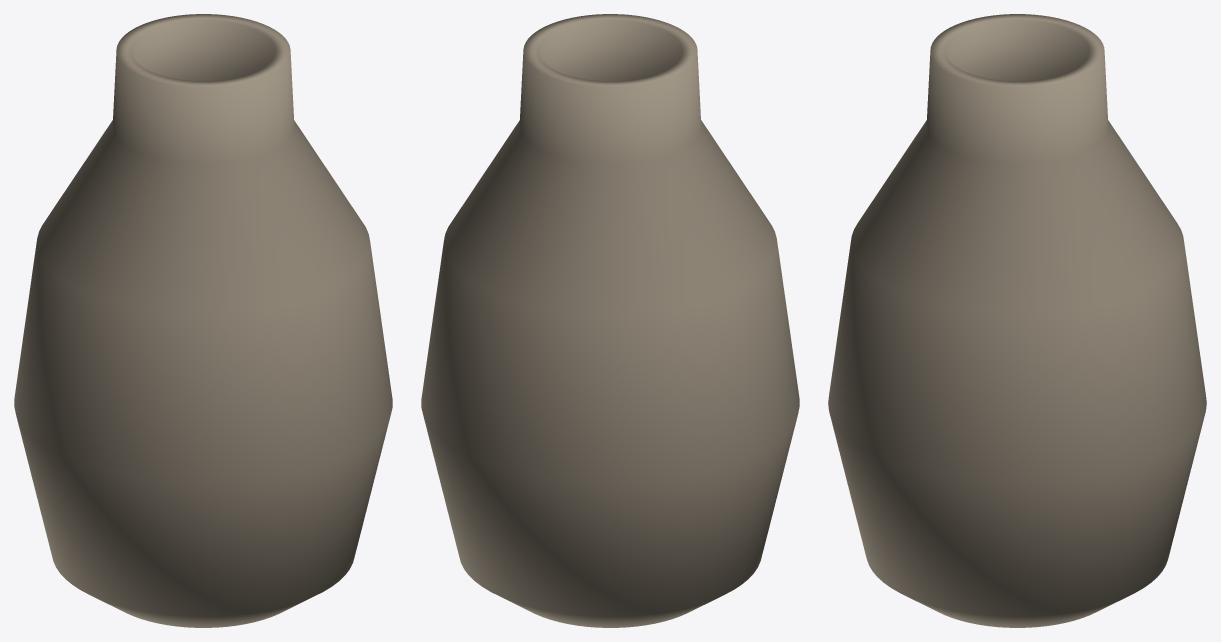
File: traditional.vase.gltf
The picture shows the model from 3 angles, left to right: view 1: azimuth 30°, elevation 25°; view 2: azimuth 150°, elevation 25°; view 3: azimuth 270°, elevation 25°; orthographic projection.
Parts seen in each view (by area): view 1: traditional.vase.stoneware; view 2: traditional.vase.stoneware; view 3: traditional.vase.stoneware.
Boxes of the visible parts, x1=… form: traditional.vase.stoneware: x1=14, y1=14, x2=392, y2=627; traditional.vase.stoneware: x1=421, y1=14, x2=799, y2=627; traditional.vase.stoneware: x1=828, y1=14, x2=1206, y2=627.
Bounding box in the file's own units: 0.18 × 0.28 × 0.18.
